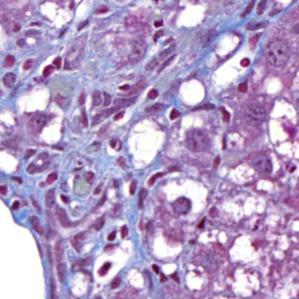steatosis: (175, 77, 211, 106)
